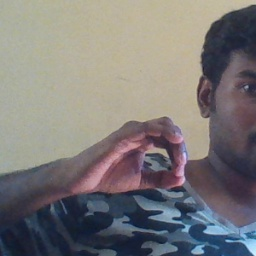O: (78, 110, 190, 200)
